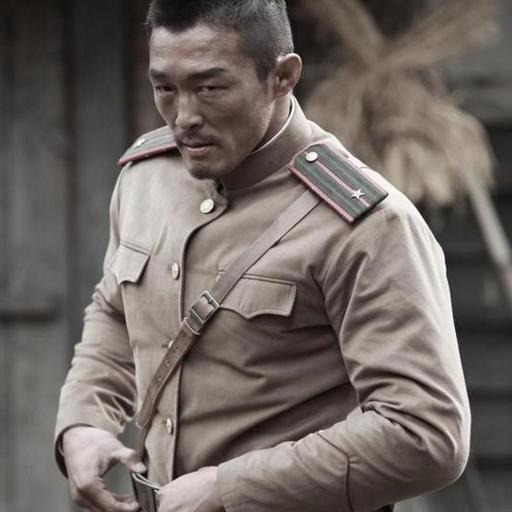north army: (73, 2, 446, 512)
